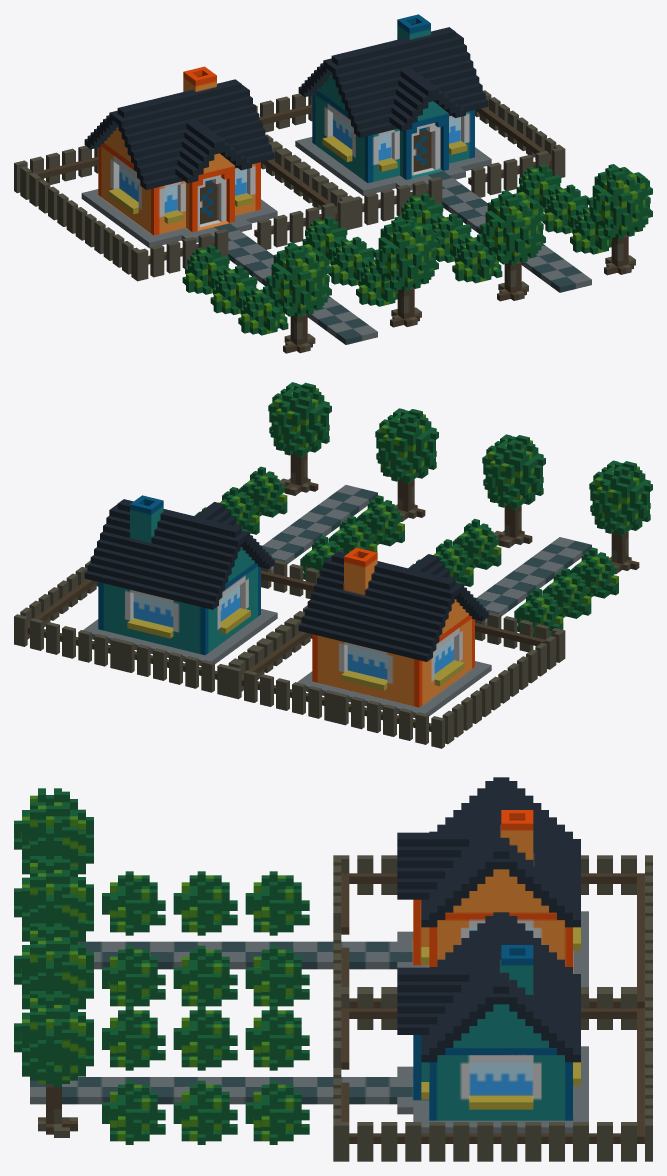
File: building_small_1_overtile.glb
3 views of the same model, one above another, from view 1: azimuth 30°, elevation 25°; view 2: azimuth 150°, elevation 25°; view 3: azimuth 270°, elevation 25° (orthographic). The views are drawn at different scales.
Visible parts, largest first — view 1: building_small_1_overtile; view 2: building_small_1_overtile; view 3: building_small_1_overtile.
Boxes of the visible parts, x1=… form: building_small_1_overtile: x1=14, y1=14, x2=652, y2=353; building_small_1_overtile: x1=14, y1=382, x2=652, y2=748; building_small_1_overtile: x1=14, y1=777, x2=652, y2=1161.
Bounding box in the file's own units: 8 × 2.2 × 8.
Materials: 1 (1 with a texture image).
